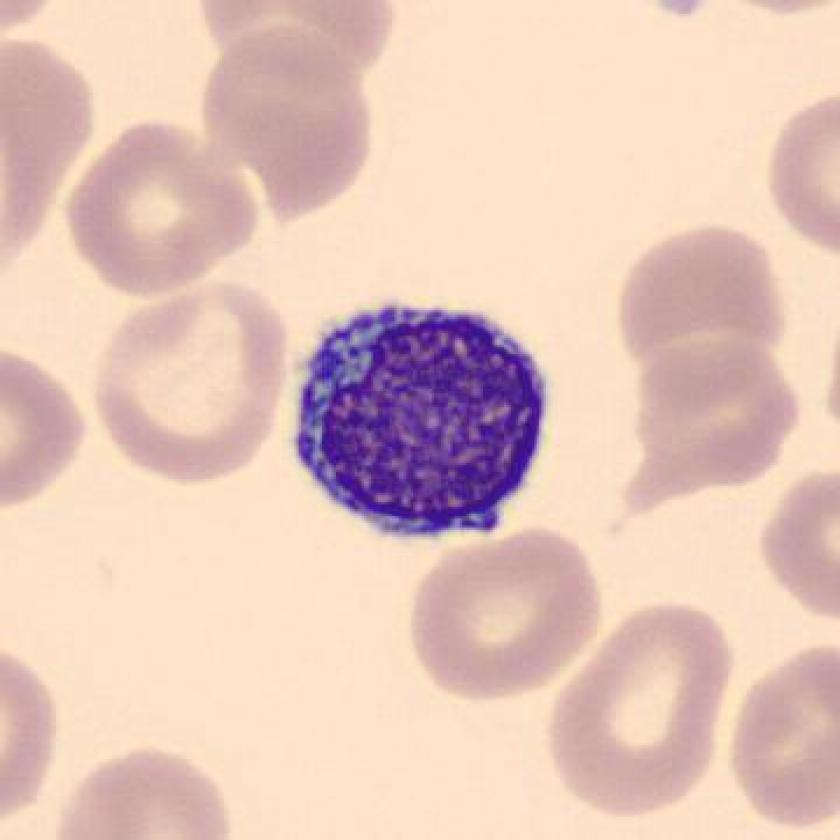lymphocyte: (274, 290, 566, 552)
